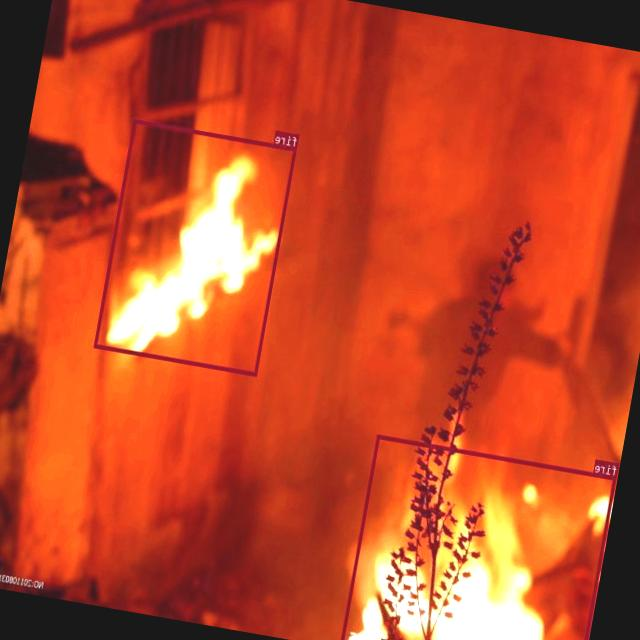fire: (340, 434, 616, 640), (95, 118, 298, 376)
